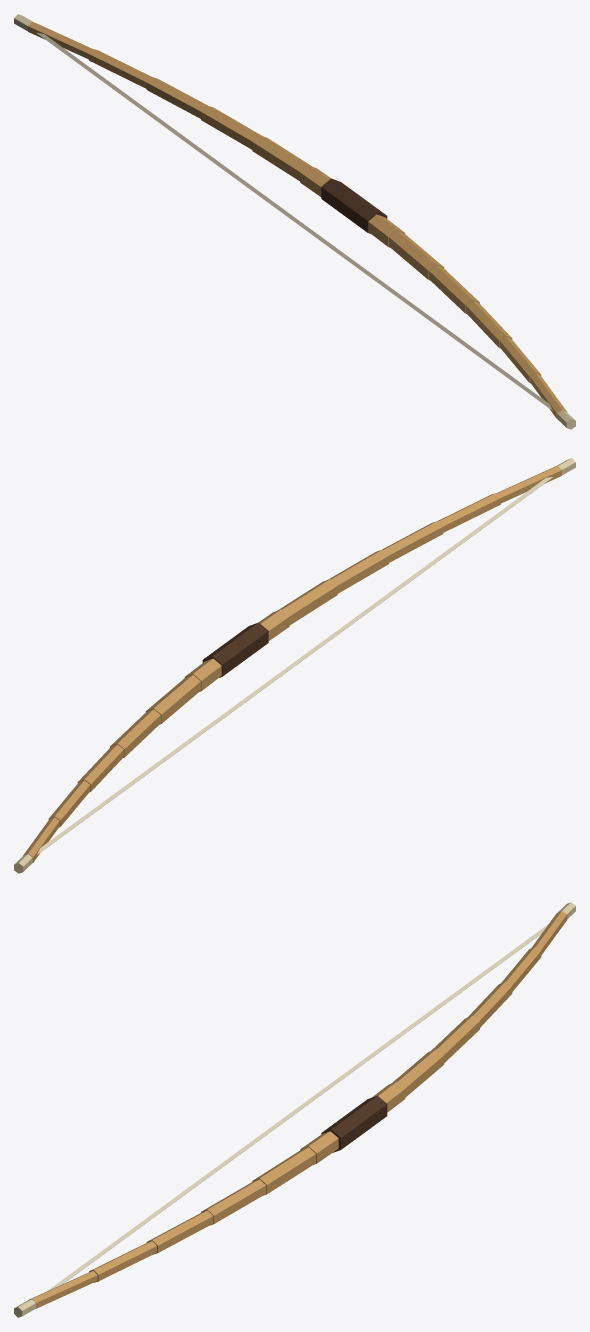
Rendered from Yew_Longbow.gltf.
3 views of the same model, one above another, from view 1: azimuth 30°, elevation 25°; view 2: azimuth 150°, elevation 25°; view 3: azimuth 330°, elevation 25° (orthographic).
Parts seen in each view (by area): view 1: Cylinder; view 2: Cylinder; view 3: Cylinder.
Boxes of the visible parts, x1,y1,x2,y2 form: Cylinder: (14,14,575,429); Cylinder: (14,458,575,873); Cylinder: (14,902,575,1317).
Bounding box in the file's own units: 0.1291 × 0.04 × 1.67.
